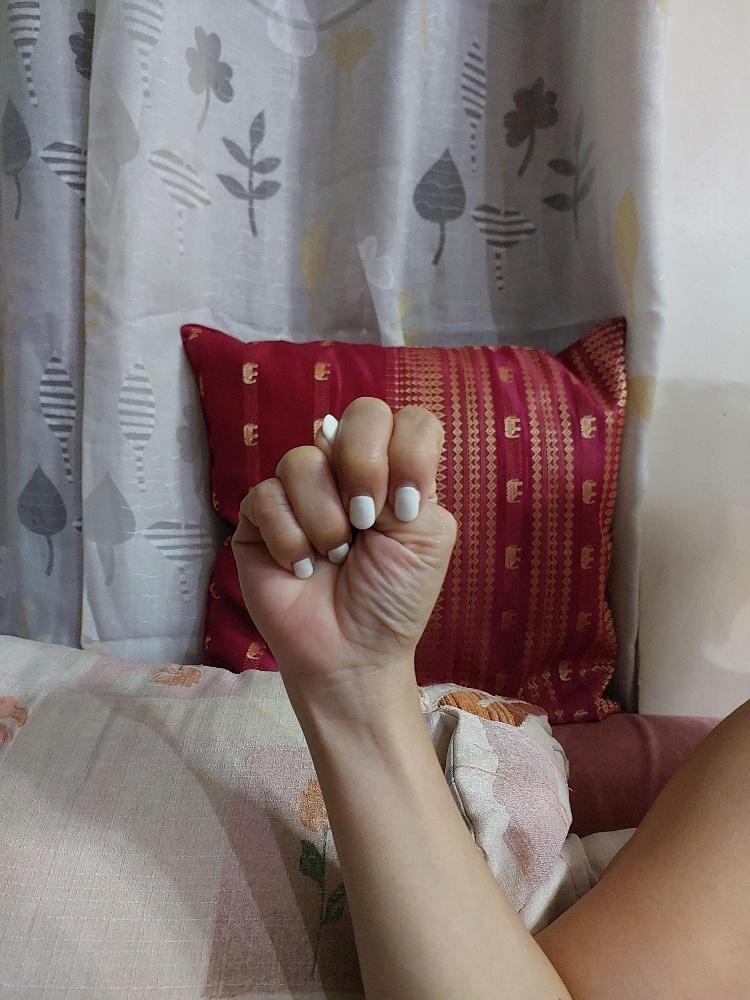n: (231, 394, 465, 681)
